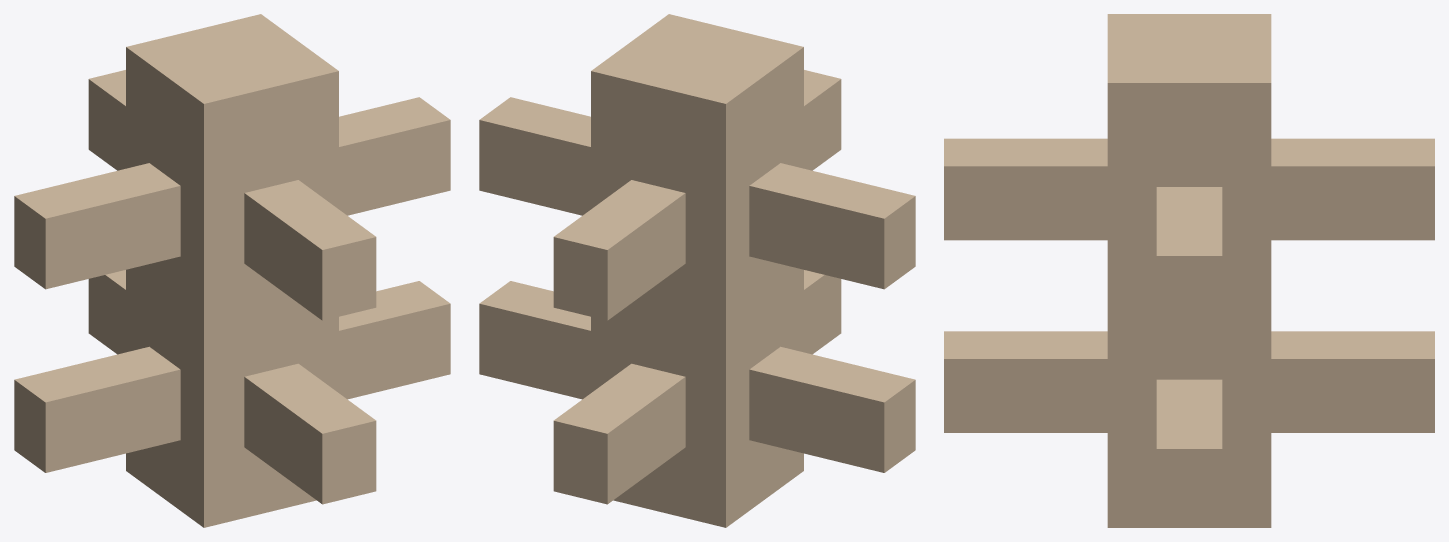
The model's file is FenceMiddleFourMesh.gltf.
The picture shows the model from 3 angles, left to right: view 1: azimuth 30°, elevation 25°; view 2: azimuth 150°, elevation 25°; view 3: azimuth 270°, elevation 25°; orthographic projection. The views are drawn at different scales.
Visible parts, largest first — view 1: FenceMiddleFour; view 2: FenceMiddleFour; view 3: FenceMiddleFour.
Boxes of the visible parts, x1,y1,x2,y2 form: FenceMiddleFour: [14, 14, 450, 527]; FenceMiddleFour: [479, 14, 915, 527]; FenceMiddleFour: [944, 14, 1434, 527].
Bounding box in the file's own units: 3 × 3 × 3.
